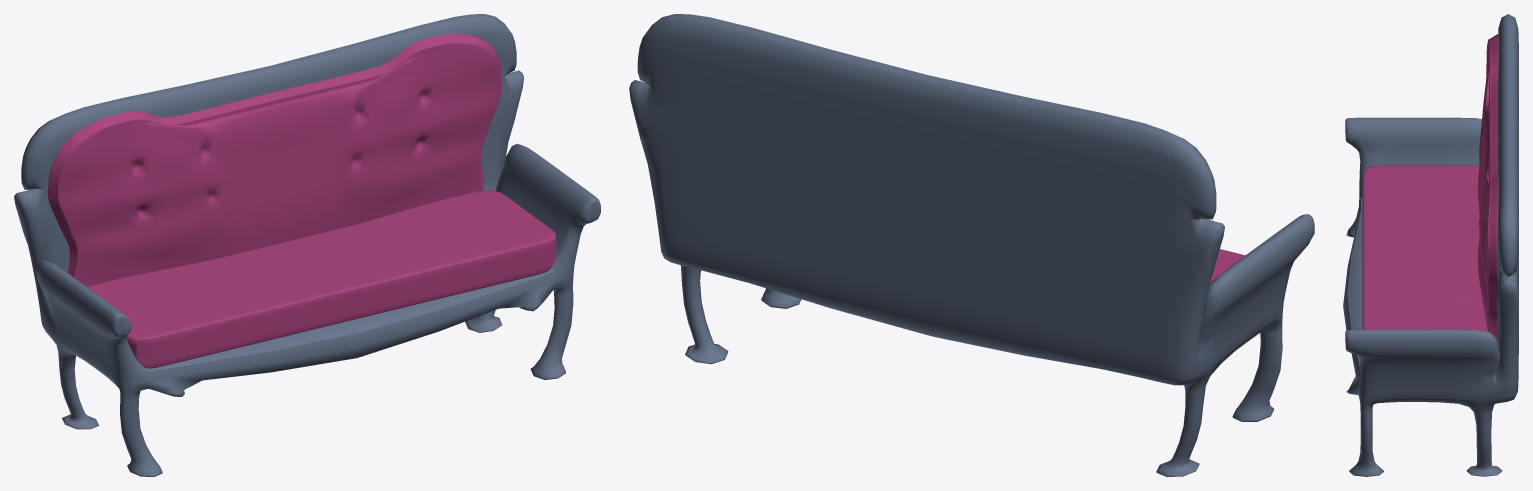
Rendered from Sofa.fbx.
The picture shows the model from 3 angles, left to right: view 1: azimuth 30°, elevation 25°; view 2: azimuth 150°, elevation 25°; view 3: azimuth 270°, elevation 25°; orthographic projection. The views are drawn at different scales.
Parts seen in each view (by area): view 1: Sofa; view 2: Sofa; view 3: Sofa.
Part boxes in pixels (box(x1,y1,x2,y2)): Sofa: box(14, 14, 600, 476); Sofa: box(629, 14, 1314, 476); Sofa: box(1343, 14, 1518, 476).
Size of the model in its own units: 575 by 329 by 189.
